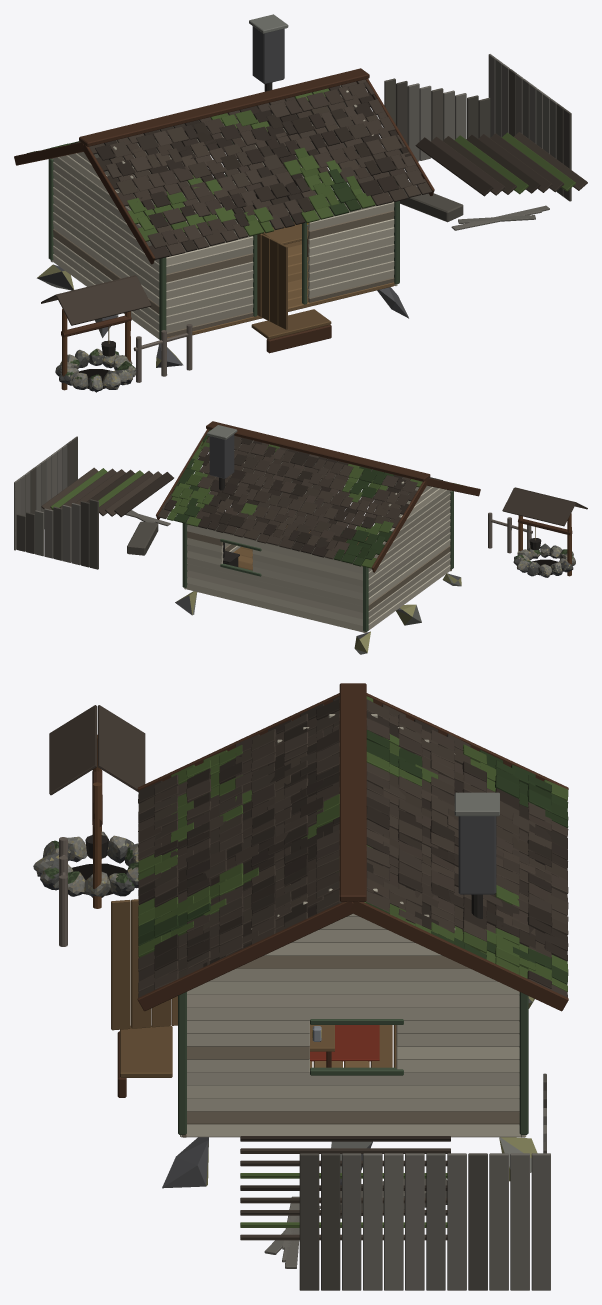
Rendered from cabin-homestead.glb.
3 renders of one model, top to bottom at view 1: azimuth 30°, elevation 25°; view 2: azimuth 150°, elevation 25°; view 3: azimuth 270°, elevation 25°, orthographic. The views are drawn at different scales.
Visible parts, largest first — view 1: homestead-roof, homestead-outside, homestead-wall-front, homestead-wall-left, homestead-floor, homestead-wall-back, homestead-inside; view 2: homestead-roof, homestead-outside, homestead-wall-back, homestead-wall-left, homestead-floor, homestead-wall-front, homestead-inside; view 3: homestead-roof, homestead-wall-right, homestead-outside, homestead-floor, homestead-wall-front, homestead-inside, homestead-wall-back.
Part boxes in pixels (bbox=[...]): homestead-roof: bbox=[14, 14, 434, 264]; homestead-outside: bbox=[41, 54, 587, 392]; homestead-wall-front: bbox=[159, 184, 399, 339]; homestead-wall-left: bbox=[53, 146, 159, 339]; homestead-floor: bbox=[37, 222, 408, 367]; homestead-wall-back: bbox=[48, 110, 284, 262]; homestead-inside: bbox=[165, 82, 308, 256]; homestead-roof: bbox=[156, 421, 480, 572]; homestead-outside: bbox=[14, 436, 587, 577]; homestead-wall-back: bbox=[182, 512, 368, 632]; homestead-wall-left: bbox=[363, 481, 450, 632]; homestead-floor: bbox=[175, 537, 461, 654]; homestead-wall-front: bbox=[272, 447, 453, 571]; homestead-inside: bbox=[219, 477, 310, 566]; homestead-roof: bbox=[137, 683, 568, 1011]; homestead-wall-right: bbox=[180, 888, 526, 1137]; homestead-outside: bbox=[33, 705, 550, 1290]; homestead-floor: bbox=[117, 996, 537, 1188]; homestead-wall-front: bbox=[111, 899, 186, 1137]; homestead-inside: bbox=[310, 894, 482, 1067]; homestead-wall-back: bbox=[519, 992, 528, 1137].
Bounding box in the file's own units: 13.78 × 5.24 × 7.11.
